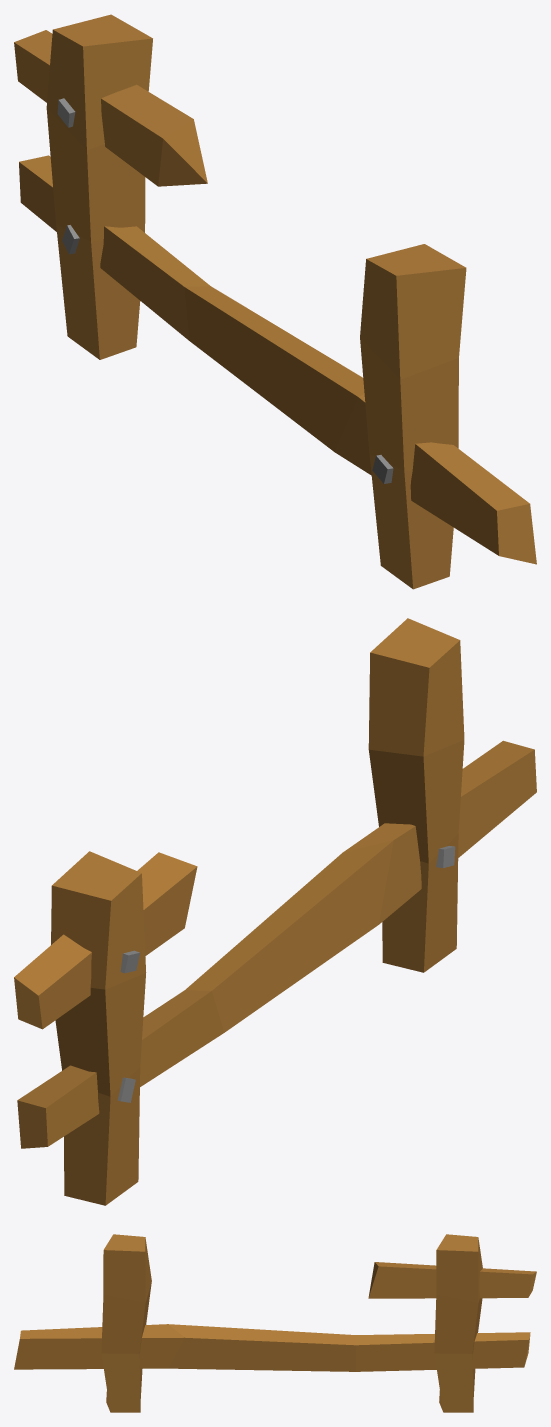
Rendered from Barrière_Cassée_02.fbx.
3 views of the same model, one above another, from view 1: azimuth 30°, elevation 25°; view 2: azimuth 150°, elevation 25°; view 3: azimuth 270°, elevation 25° (orthographic). The views are drawn at different scales.
Visible parts, largest first — view 1: Barrière_Cassée_02; view 2: Barrière_Cassée_02; view 3: Barrière_Cassée_02.
Boxes of the visible parts, x1,y1,x2,y2 form: Barrière_Cassée_02: (14,14,536,589); Barrière_Cassée_02: (14,618,536,1205); Barrière_Cassée_02: (14,1234,536,1412).
Size of the model in its own units: 32.18 by 143 by 411.
1 material, 1 textured.
